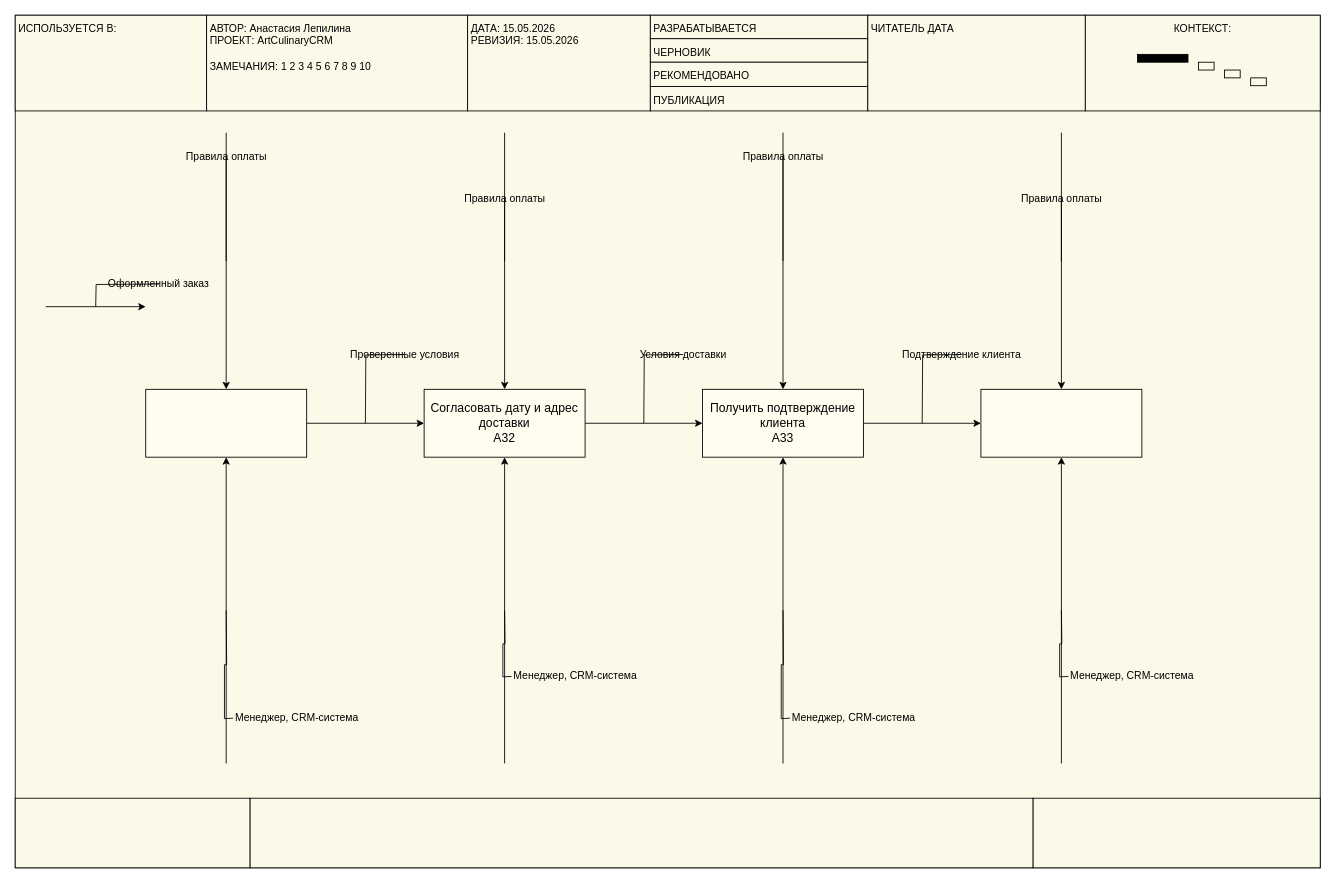
This 1335x883 diagram has some shape labels left out. Here are the shapes that lost their labels. From the top down, the centre of each, then its label:
At point (226, 422): "Проверить условия заказа A31".
At point (1061, 422): "Изменить статус заказа A34".
At point (132, 832): "Ветка: A3".
At point (641, 832): "Название: Подтвердить продажу и доставку".
At point (1176, 832): "Номер: 5".
